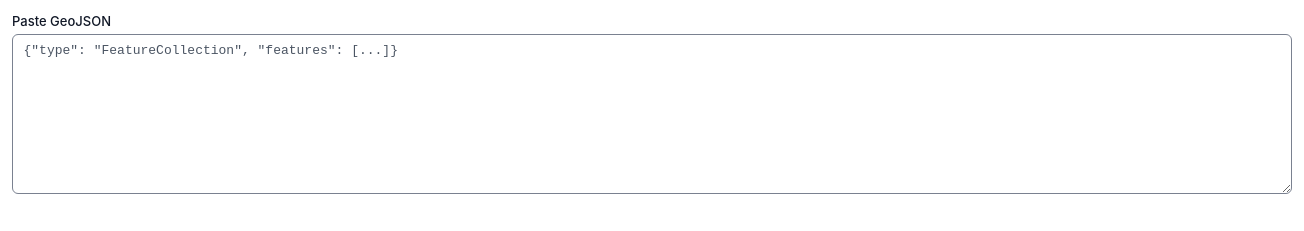
Scenario: PasteField › shows a plain-language error while the text is not valid JSON yet, without calling onLoad
This screenshot has width=1304, height=231.
Click the text box labelled "Paste GeoJSON".
click(652, 114)  # box [12,34,1292,194]
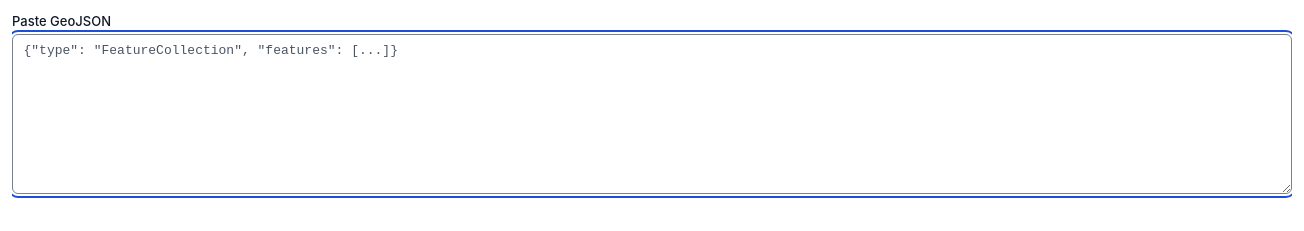
Type keys "{ not json"
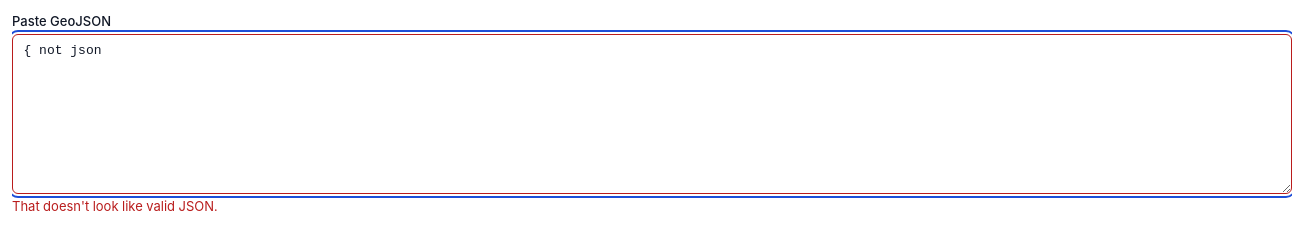
Expected: the message shows "valid JSON", [12,198,218,214]
